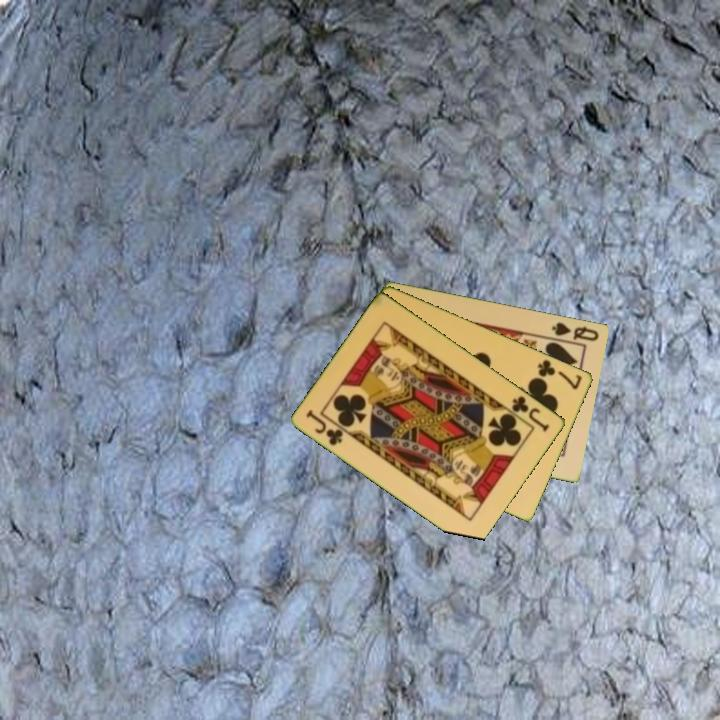7c: (534, 356, 585, 392)
Jc: (508, 392, 553, 435), (303, 406, 347, 448)
Qs: (548, 318, 602, 344)
